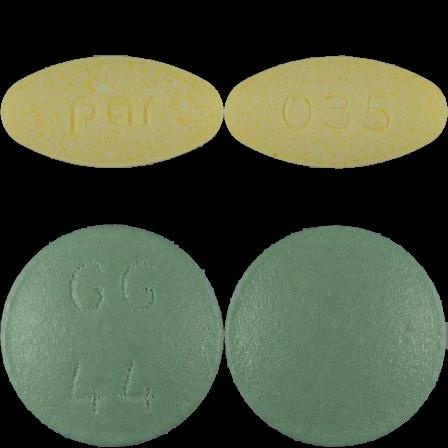21695-237: (0, 0, 224, 224)
